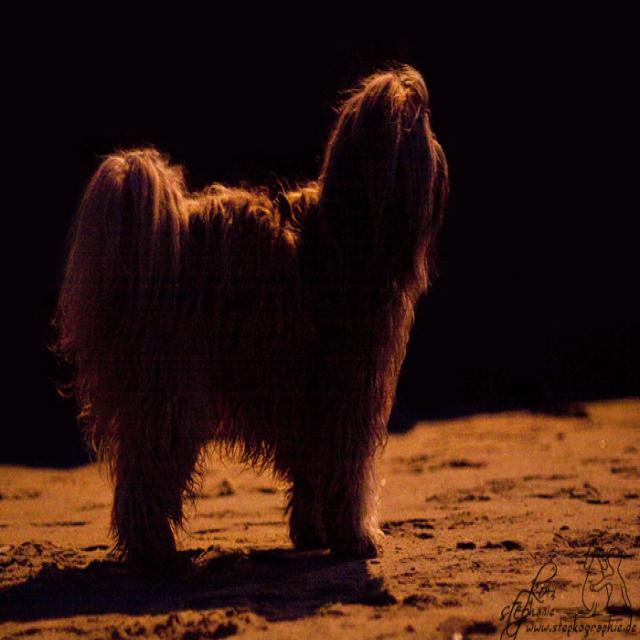Dog: (52, 61, 449, 578)
